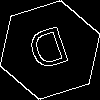D: (25, 25, 75, 80)
